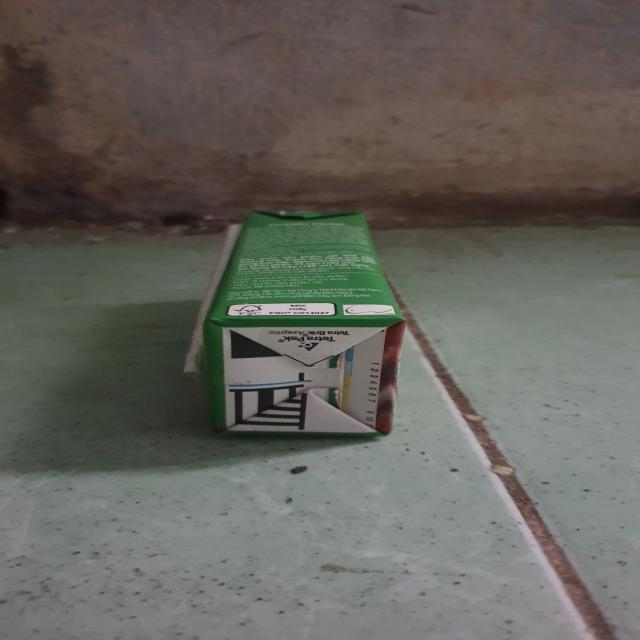Milo: (204, 210, 411, 441)
